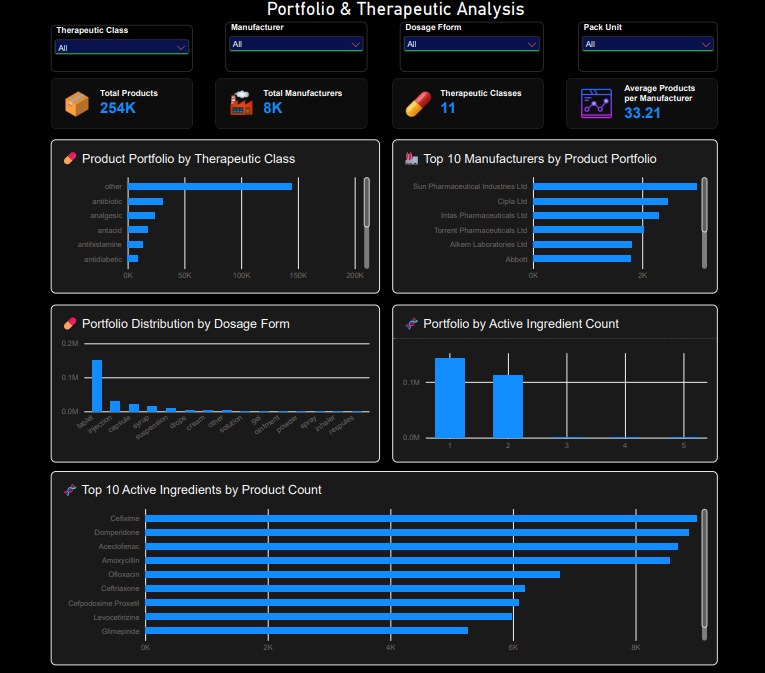

What the dashboard file says about the page in this screenshot:
{"tool":"powerbi","page":{"name":"03_Portfolio_Therapeutic_Analysis","canvas":[1920,1080],"ordinal":2},"visuals":[{"type":"textbox","box":[720,0,545,43],"z":0},{"type":"cardVisual","fields":{"Data":["KPI_Measures.Total Products"]},"box":[441,128,227,81],"z":1000},{"type":"cardVisual","fields":{"Data":["KPI_Measures.Therapeutic Classes"]},"box":[987,128,242,81],"z":2000},{"type":"cardVisual","fields":{"Data":["KPI_Measures.Average Products per Manufacturer"]},"box":[1265,128,242,81],"z":3000},{"type":"clusteredBarChart","title":"💊 Product Portfolio by Therapeutic Class","fields":{"Category":["Pharma_Products.Therapeutic_class"],"Y":["KPI_Measures.Total Products"]},"box":[441,226,526,246],"z":4000},{"type":"clusteredBarChart","title":"🏭 Top 10 Manufacturers by Product Portfolio","fields":{"Category":["Pharma_Products.Manufacturer"],"Y":["KPI_Measures.Total Products"]},"box":[987,226,520,246],"z":5000},{"type":"clusteredColumnChart","title":"💊 Portfolio Distribution by Dosage Form","fields":{"Category":["Pharma_Products.Dosage_form"],"Y":["KPI_Measures.Total Products"]},"box":[441,490,526,252],"z":6000},{"type":"clusteredBarChart","title":"🧬 Top 10 Active Ingredients by Product Count","fields":{"Category":["Pharma_Products.Primary_ingredient"],"Y":["KPI_Measures.Total Products"]},"box":[441,756,1066,310],"z":7000},{"type":"clusteredColumnChart","title":"🧬 Portfolio by Active Ingredient Count","fields":{"Category":["Pharma_Products.Num_active_ingredients"],"Y":["KPI_Measures.Total Products"]},"box":[987,490,520,252],"z":8000},{"type":"cardVisual","fields":{"Data":["KPI_Measures.Total Manufacturers"]},"box":[704,128,243,81],"z":9000},{"type":"slicer","fields":{"Values":["Pharma_Products.Therapeutic_class"]},"box":[441,43,227,75],"z":10000},{"type":"slicer","fields":{"Values":["Pharma_Products.Manufacturer"]},"box":[720,38,227,80],"z":11000},{"type":"slicer","fields":{"Values":["Pharma_Products.Dosage_form"]},"box":[999,38,230,80],"z":12000},{"type":"slicer","fields":{"Values":["Pharma_Products.Pack_unit"]},"box":[1284,38,223,80],"z":13000}]}

Visuals, with their boxes on the page's 1920x1080 design canvas (x1, y1, x2, y2). These are canvas units, not pixel positions in the 765x673 screenshot, which may show the page scaled, cropped or inside an application window:
textbox: pyautogui.locateOnScreen(720, 0, 1265, 43)
cardVisual - KPI_Measures.Total Products: pyautogui.locateOnScreen(441, 128, 668, 209)
cardVisual - KPI_Measures.Therapeutic Classes: pyautogui.locateOnScreen(987, 128, 1229, 209)
cardVisual - KPI_Measures.Average Products per Manufacturer: pyautogui.locateOnScreen(1265, 128, 1507, 209)
"💊 Product Portfolio by Therapeutic Class" clusteredBarChart: pyautogui.locateOnScreen(441, 226, 967, 472)
"🏭 Top 10 Manufacturers by Product Portfolio" clusteredBarChart: pyautogui.locateOnScreen(987, 226, 1507, 472)
"💊 Portfolio Distribution by Dosage Form" clusteredColumnChart: pyautogui.locateOnScreen(441, 490, 967, 742)
"🧬 Top 10 Active Ingredients by Product Count" clusteredBarChart: pyautogui.locateOnScreen(441, 756, 1507, 1066)
"🧬 Portfolio by Active Ingredient Count" clusteredColumnChart: pyautogui.locateOnScreen(987, 490, 1507, 742)
cardVisual - KPI_Measures.Total Manufacturers: pyautogui.locateOnScreen(704, 128, 947, 209)
slicer - Pharma_Products.Therapeutic_class: pyautogui.locateOnScreen(441, 43, 668, 118)
slicer - Pharma_Products.Manufacturer: pyautogui.locateOnScreen(720, 38, 947, 118)
slicer - Pharma_Products.Dosage_form: pyautogui.locateOnScreen(999, 38, 1229, 118)
slicer - Pharma_Products.Pack_unit: pyautogui.locateOnScreen(1284, 38, 1507, 118)
